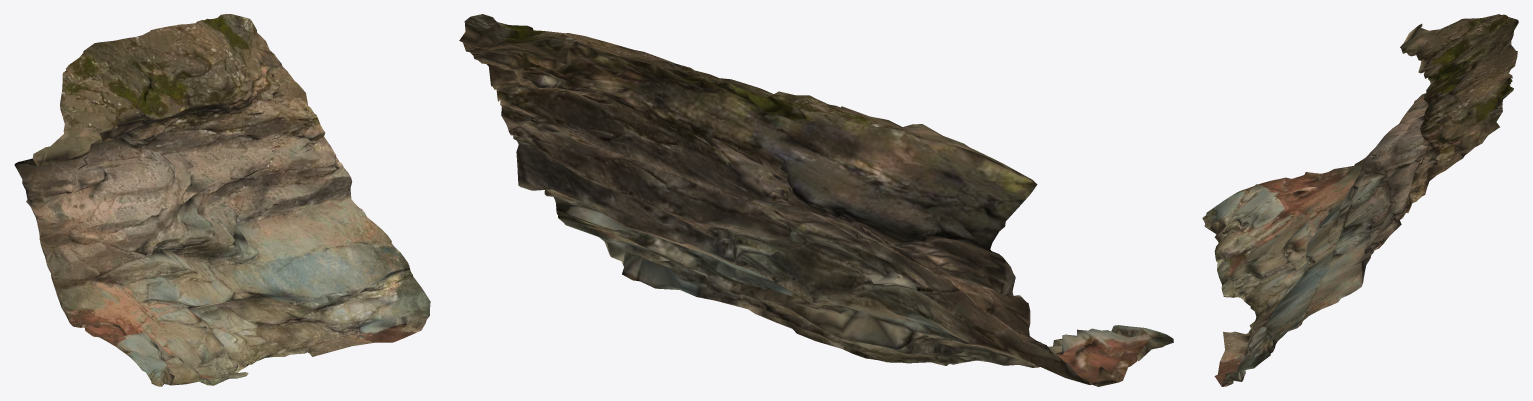
The model's file is slab.glb.
3 views of the same model, side by side, from view 1: azimuth 30°, elevation 25°; view 2: azimuth 150°, elevation 25°; view 3: azimuth 270°, elevation 25° (orthographic). The views are drawn at different scales.
Visible parts, largest first — view 1: rock_face_01; view 2: rock_face_01; view 3: rock_face_01.
Boxes of the visible parts, box(x1,y1,x2,y2) form: rock_face_01: box(14, 14, 430, 386); rock_face_01: box(459, 14, 1173, 386); rock_face_01: box(1202, 14, 1518, 386).
Bounding box in the file's own units: 4.94 × 3.56 × 3.82.
1 material, 1 textured.
